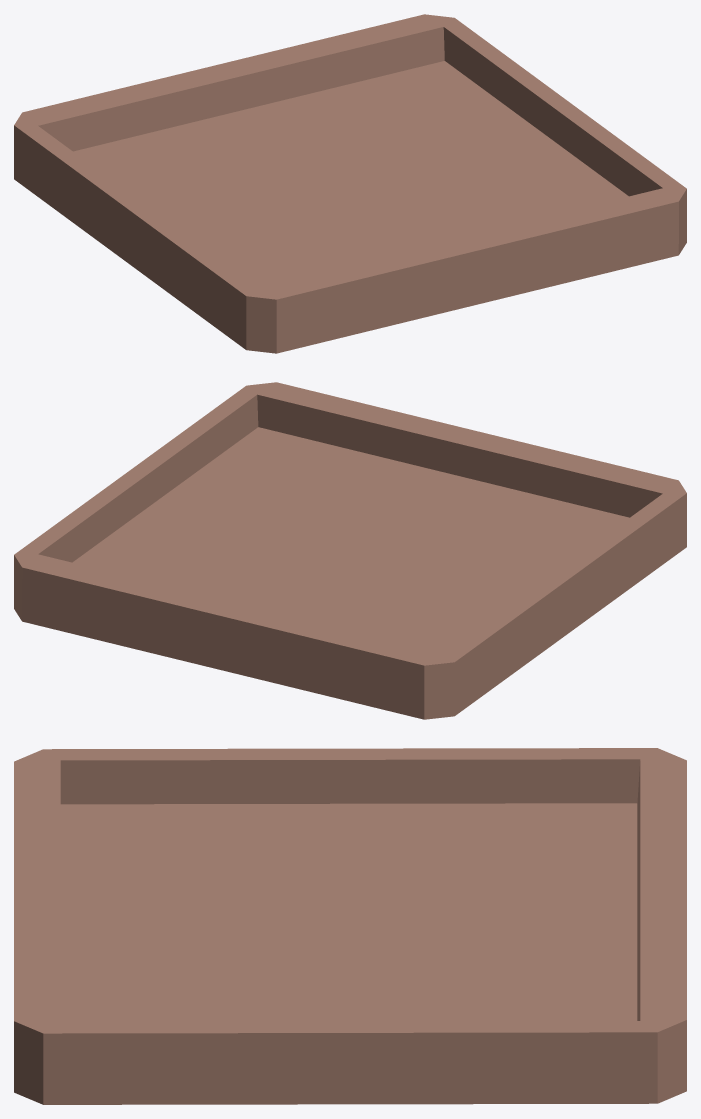
File: Asset_Box_Couvercle.fbx
3 renders of one model, top to bottom at view 1: azimuth 30°, elevation 25°; view 2: azimuth 150°, elevation 25°; view 3: azimuth 270°, elevation 25°, orthographic. The views are drawn at different scales.
Visible parts, largest first — view 1: Asset_Boite_Couvercle; view 2: Asset_Boite_Couvercle; view 3: Asset_Boite_Couvercle.
Part boxes in pixels (x1,y1,x2,y2): Asset_Boite_Couvercle: [14, 14, 686, 353]; Asset_Boite_Couvercle: [14, 382, 686, 719]; Asset_Boite_Couvercle: [14, 748, 686, 1104].
Size of the model in its own units: 361 by 43.06 by 361.
